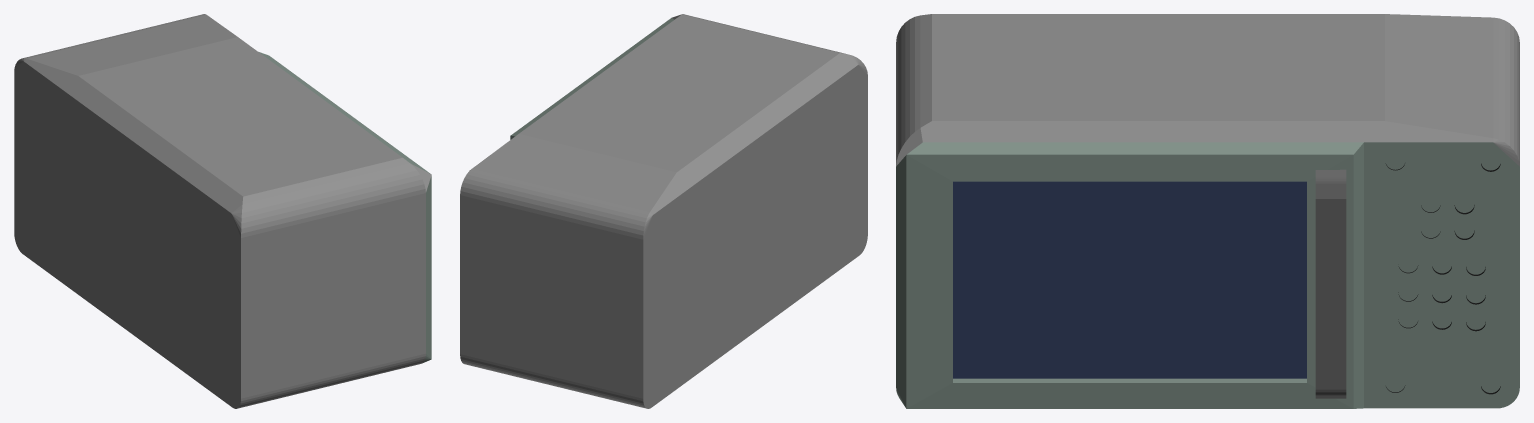
Rendered from Microwave_01.fbx.
3 renders of one model, left to right at view 1: azimuth 30°, elevation 25°; view 2: azimuth 150°, elevation 25°; view 3: azimuth 270°, elevation 25°, orthographic. The views are drawn at different scales.
Parts seen in each view (by area): view 1: Microwave_01; view 2: Microwave_01; view 3: Microwave_01.
Boxes of the visible parts, <box> form: Microwave_01: <box>14,14,431,408</box>; Microwave_01: <box>460,14,867,408</box>; Microwave_01: <box>896,14,1519,408</box>.
Size of the model in its own units: 222 by 211 by 425.
